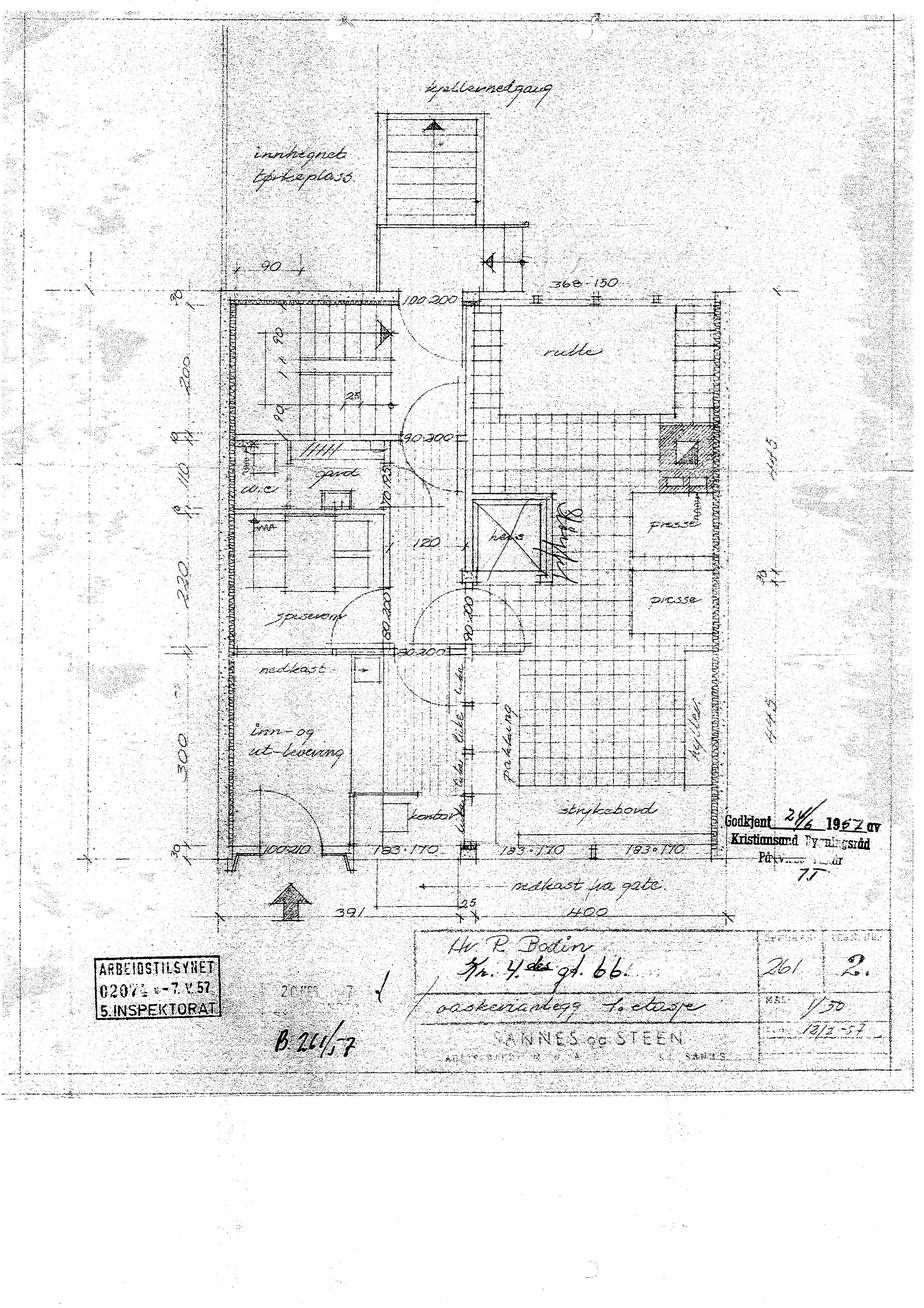plantegning: (202, 102, 736, 883)
